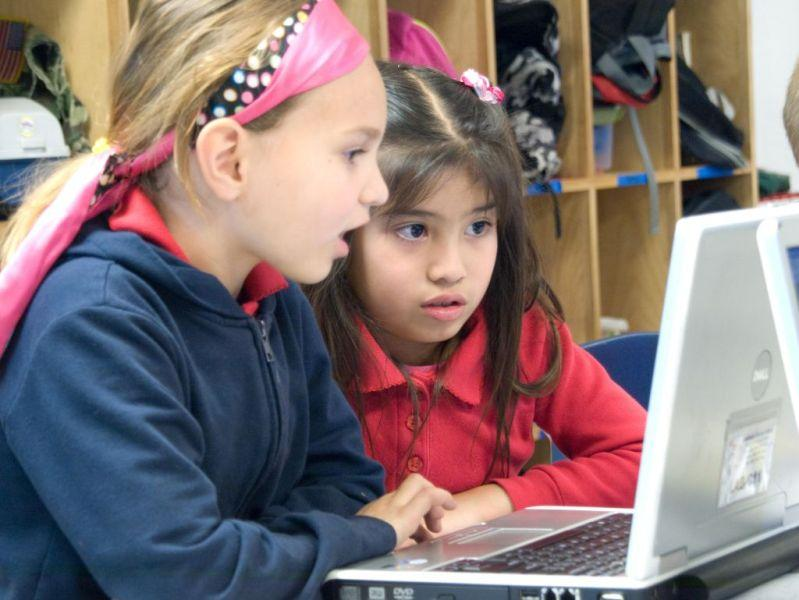person: (3, 1, 454, 600)
